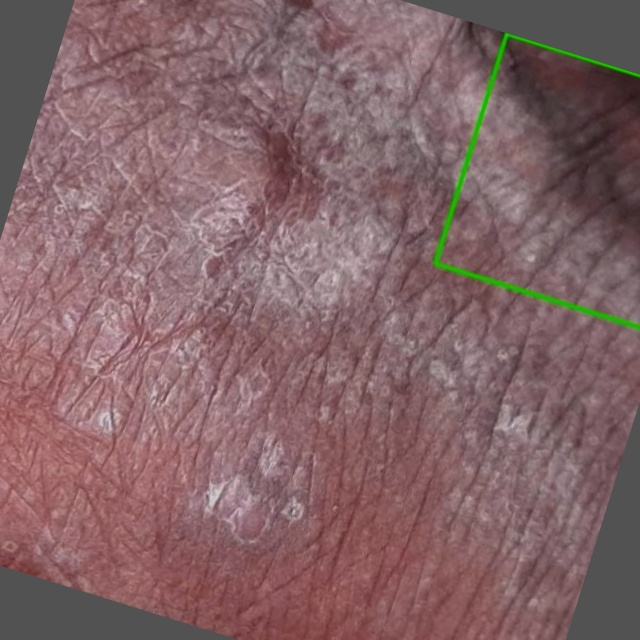Eczema: (433, 33, 639, 328)
